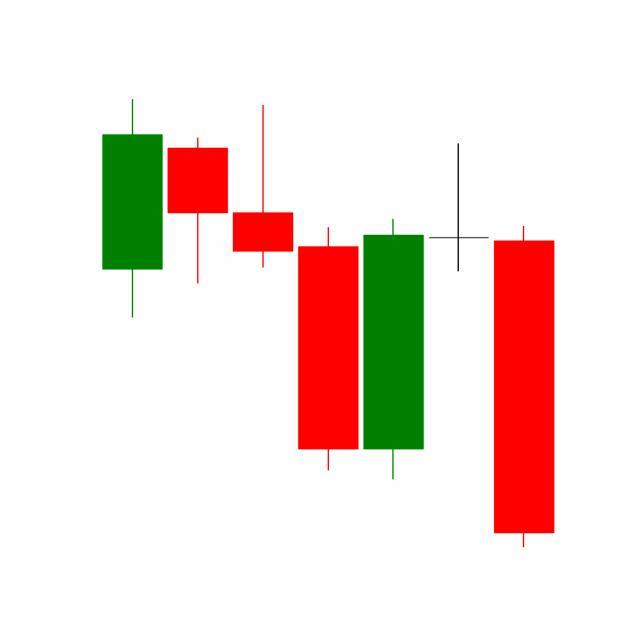Three Inside Up-Down: (360, 139, 556, 549)
